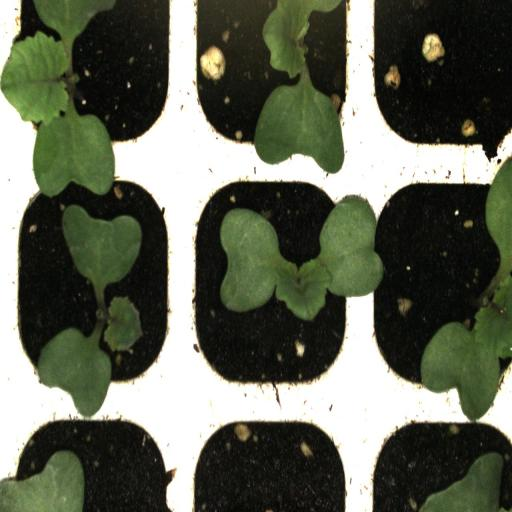Folha: (37, 296, 142, 422), (62, 204, 142, 298), (0, 450, 85, 512), (419, 452, 506, 512)
Germinacao: (181, 168, 359, 403), (5, 173, 181, 402), (364, 163, 512, 407), (4, 0, 185, 169), (184, 1, 363, 170)
